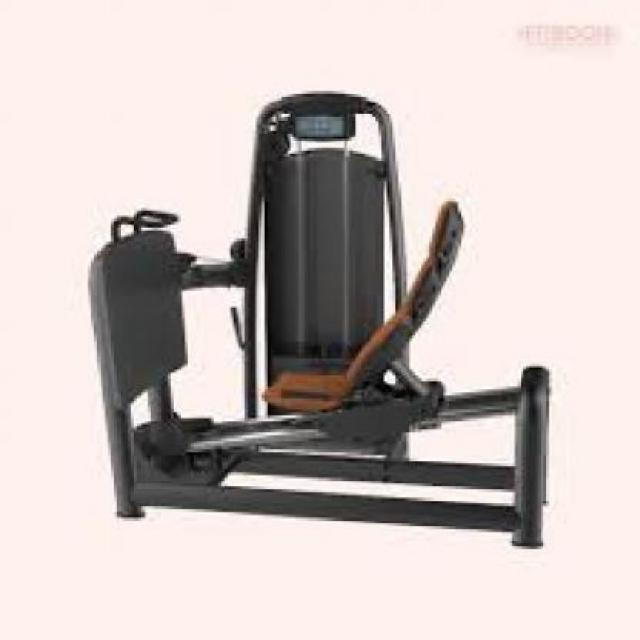leg press: (72, 64, 577, 562)
